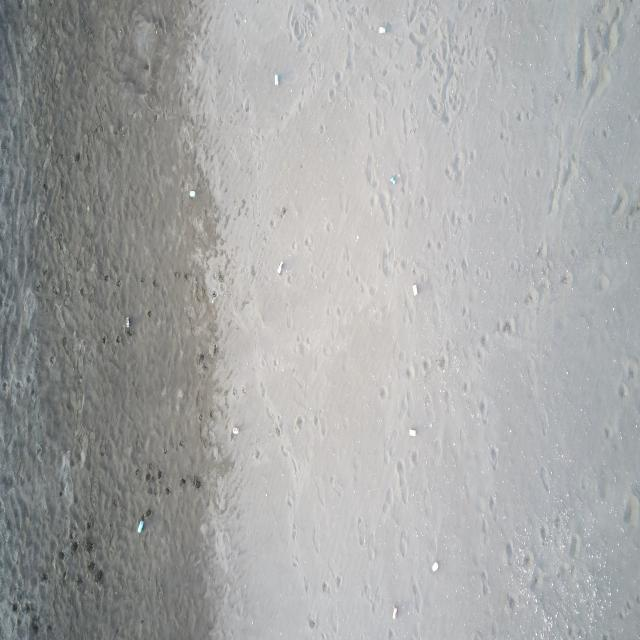tin-and-aluminum-cans: (136, 519, 145, 534), (411, 282, 419, 298), (277, 259, 284, 275), (378, 24, 387, 36), (187, 188, 196, 199), (431, 561, 439, 573), (125, 314, 131, 330), (232, 425, 240, 437), (392, 605, 398, 620), (389, 176, 398, 186), (408, 428, 416, 437), (274, 73, 279, 87)
